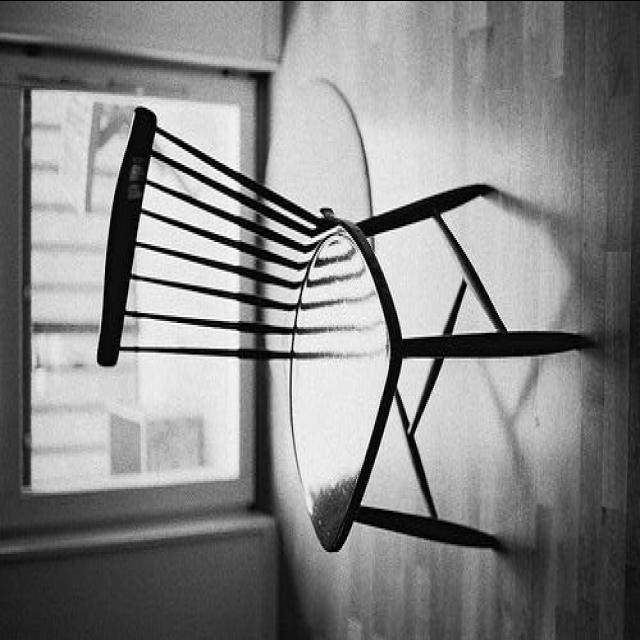chair: (88, 103, 576, 552)
